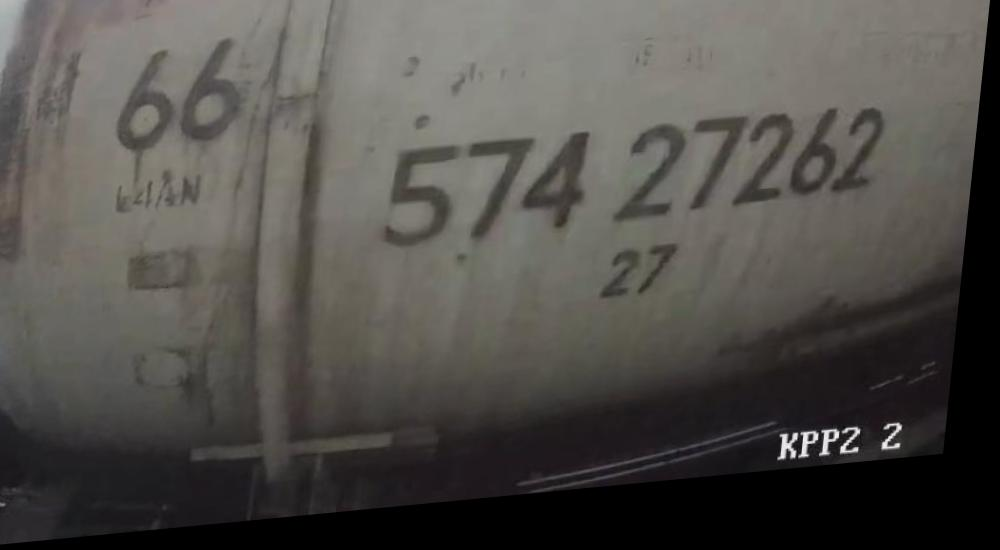Wagon-number: (383, 114, 893, 261)
